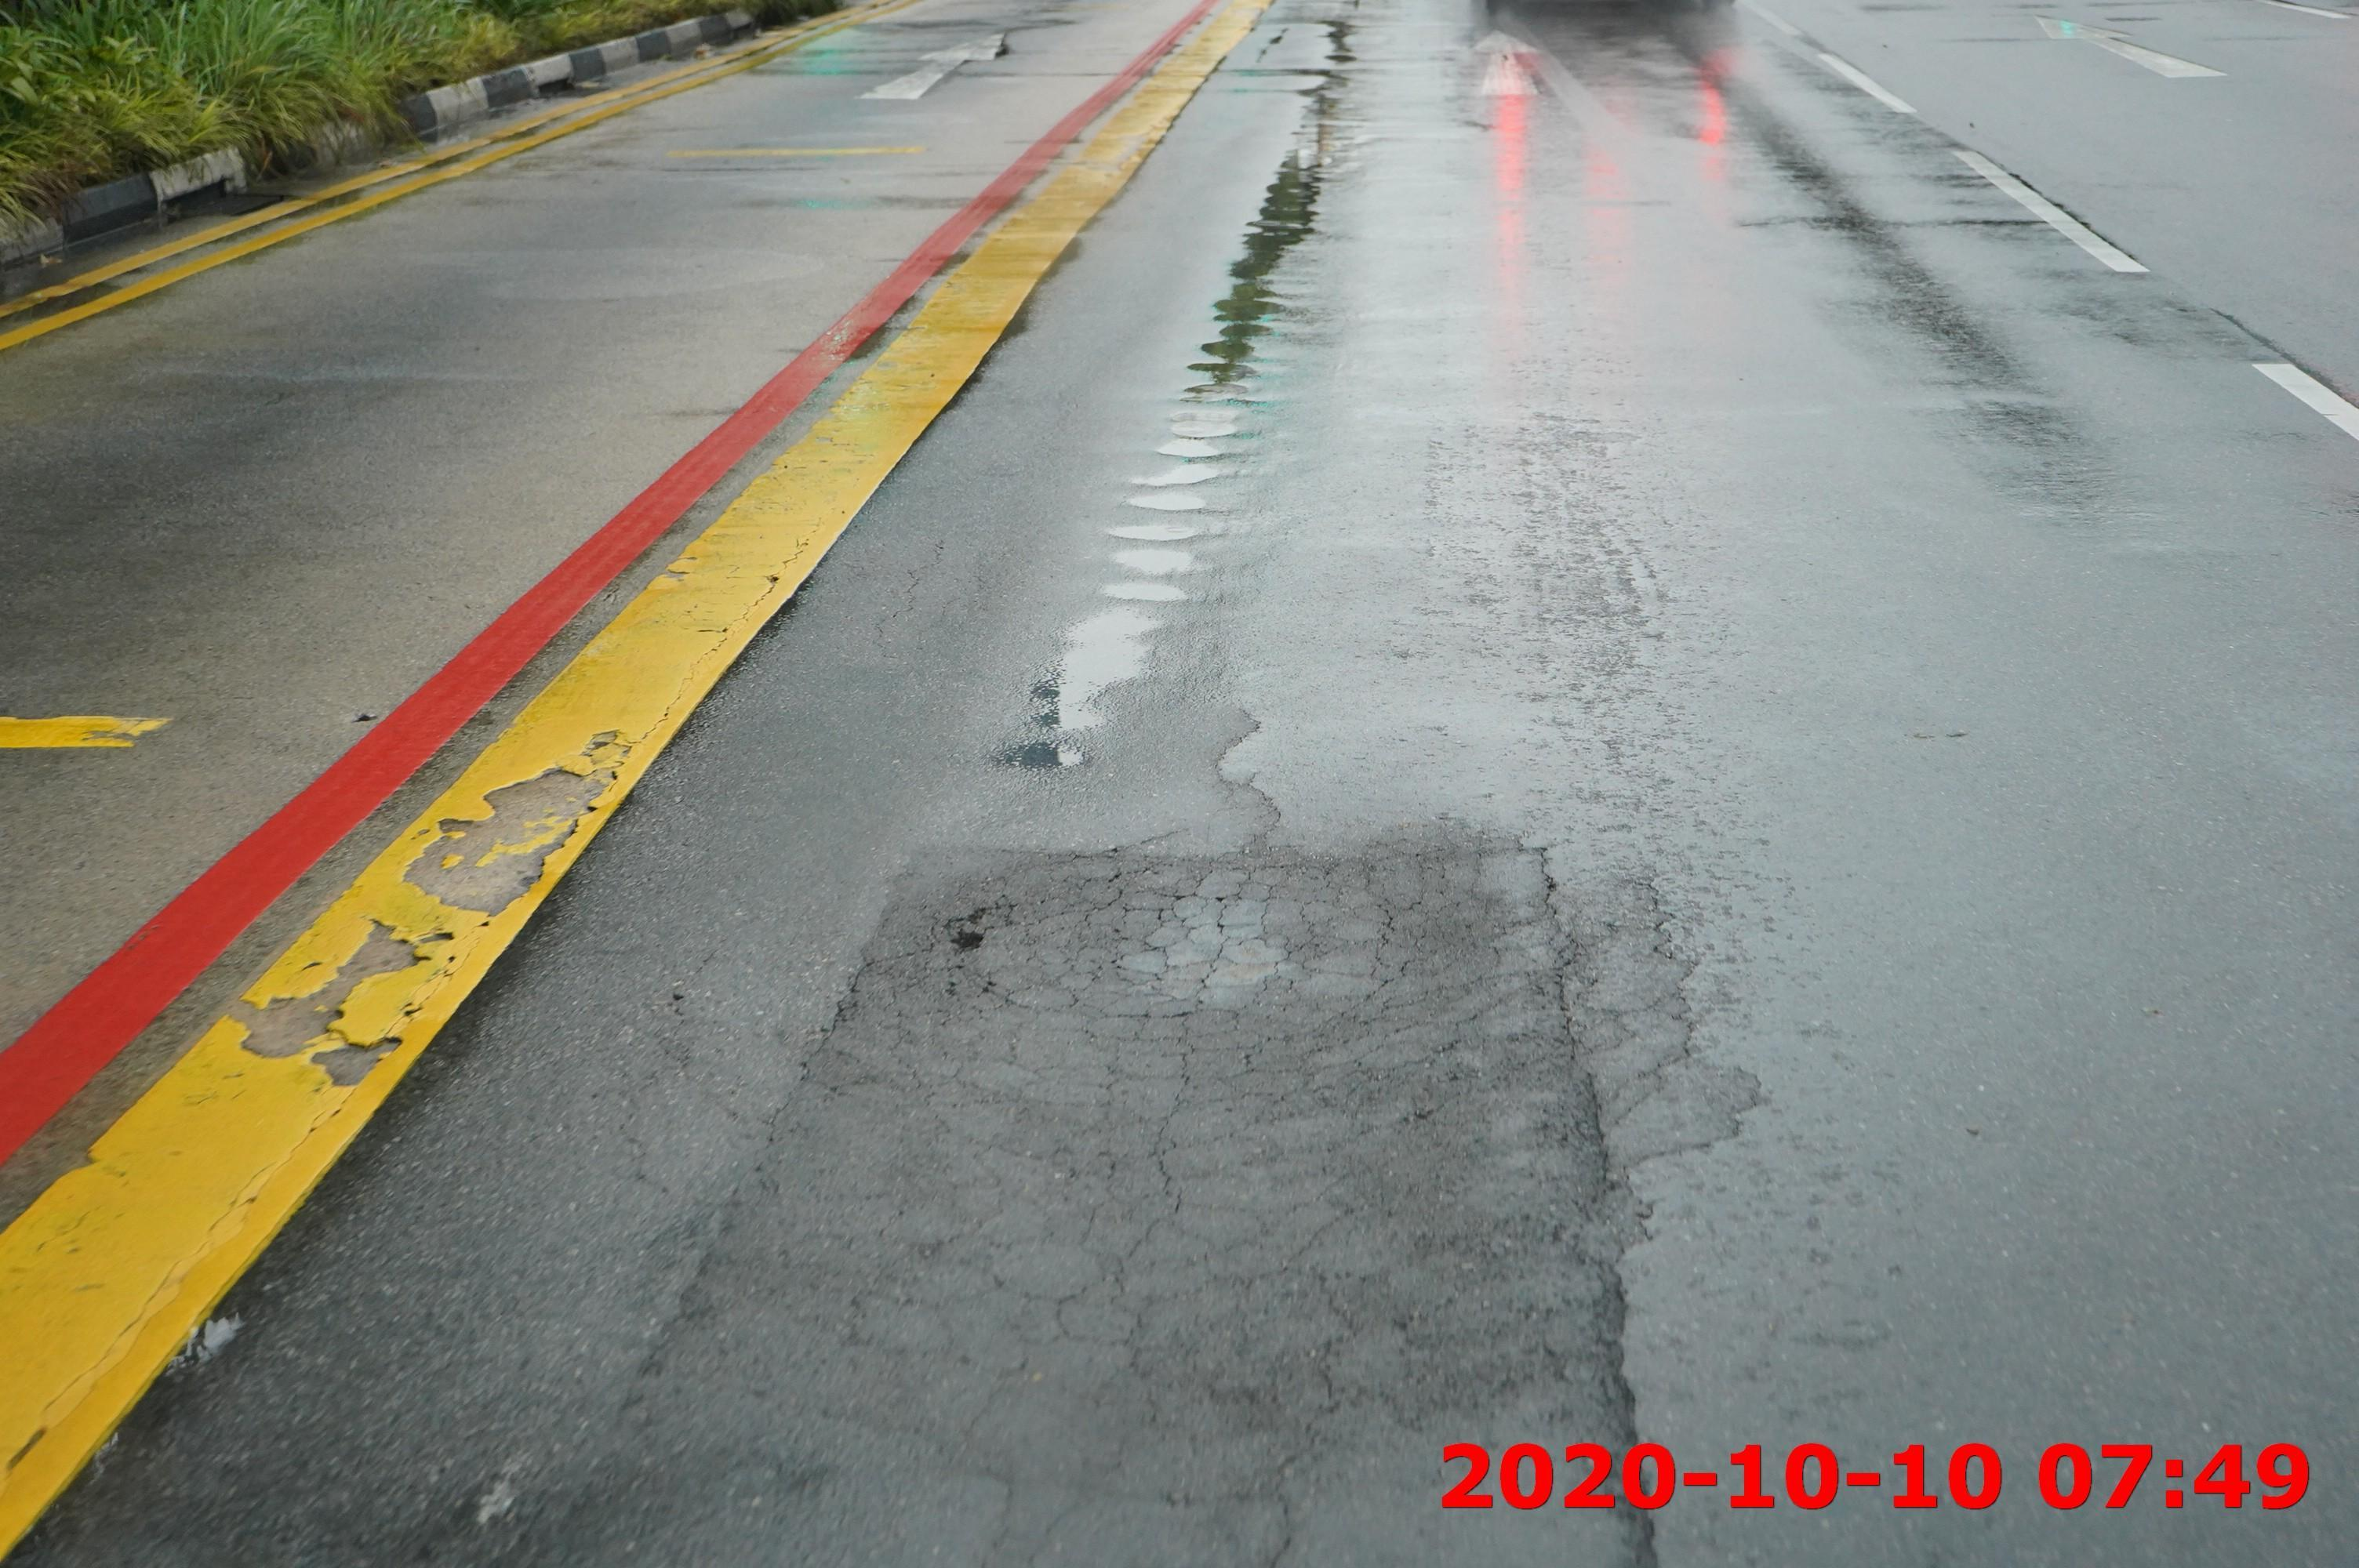alligator crack: (772, 831, 1670, 1512)
